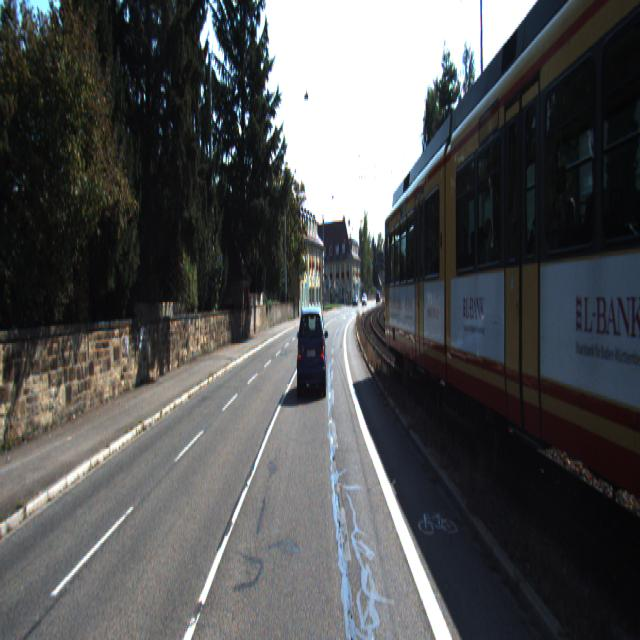Car: (444, 0, 640, 606), (384, 115, 506, 426), (298, 305, 328, 402)
